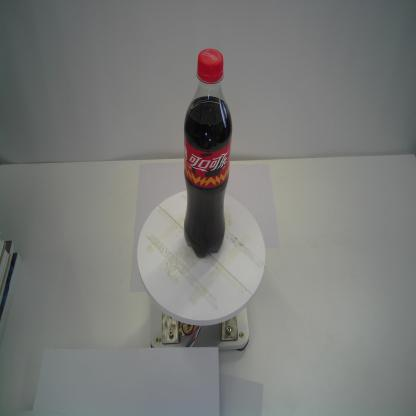Drink: (180, 46, 234, 262)
